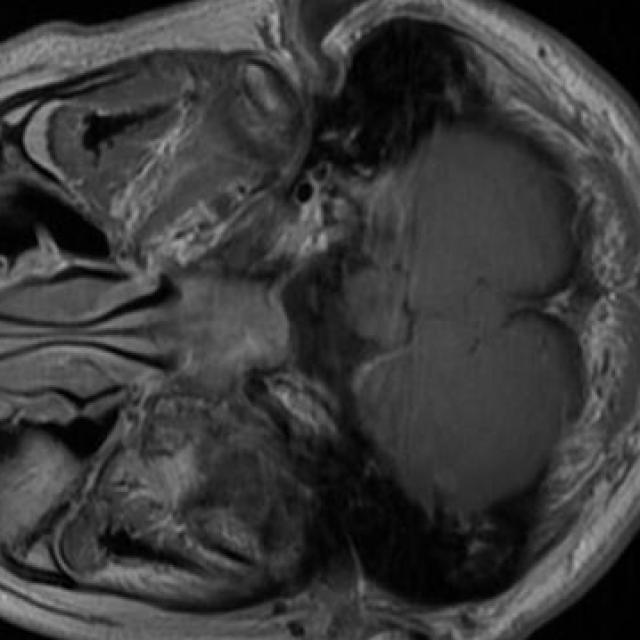pituitary: (184, 282, 287, 382)
